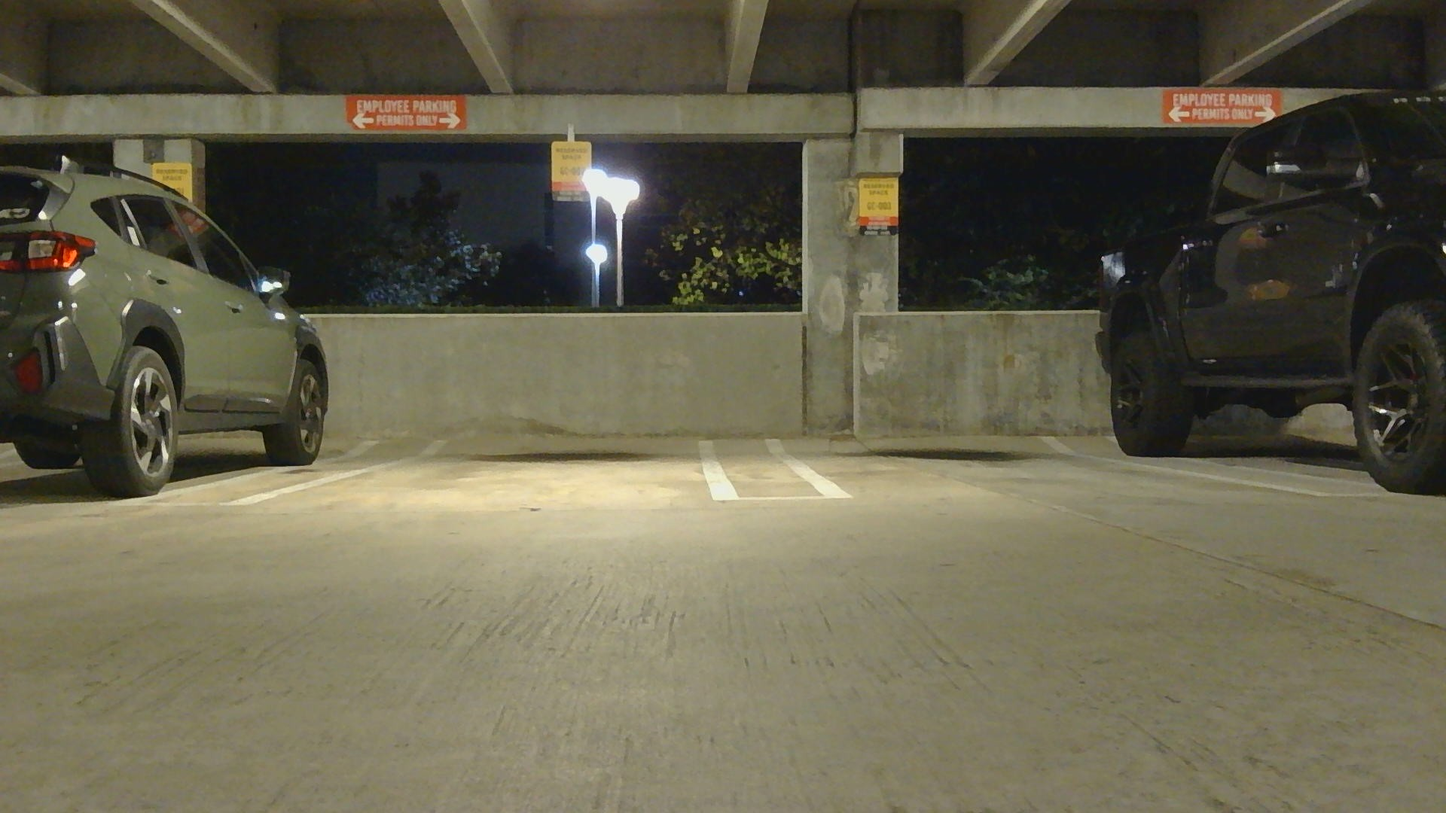empty_spot: (215, 387, 743, 513), (762, 399, 1355, 504)
occupied_spot: (1096, 87, 1446, 497), (0, 158, 342, 508)
